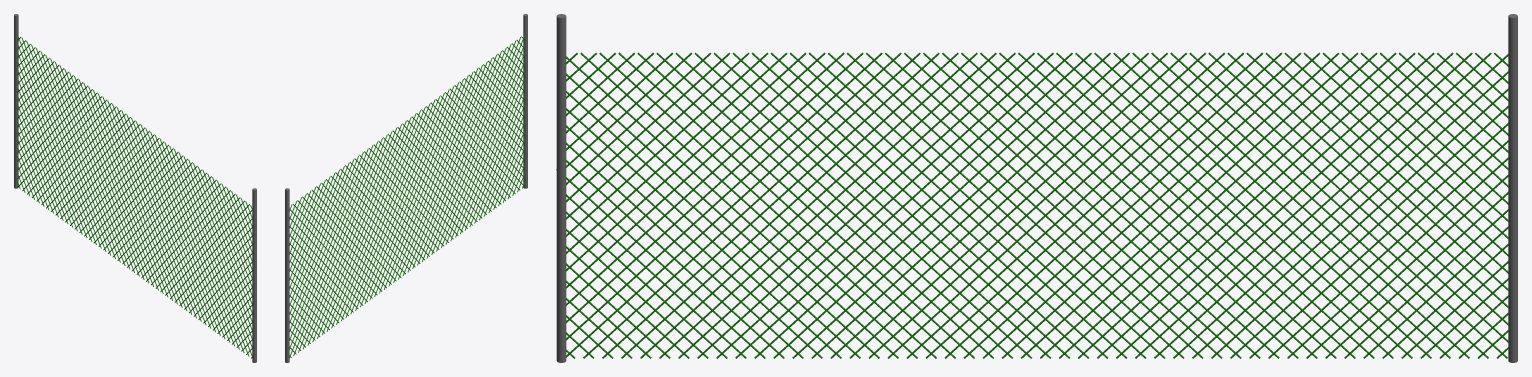
The model's file is Fence.fbx.
3 views of the same model, side by side, from view 1: azimuth 30°, elevation 25°; view 2: azimuth 150°, elevation 25°; view 3: azimuth 270°, elevation 25° (orthographic). The views are drawn at different scales.
Visible parts, largest first — view 1: Cylinder.002, Cylinder, Cylinder.001; view 2: Cylinder.002, Cylinder.001, Cylinder; view 3: Cylinder.002, Cylinder, Cylinder.001.
Boxes of the visible parts, x1,y1,x2,y2 form: Cylinder.002: (17,34,255,358); Cylinder: (252,188,256,362); Cylinder.001: (14,14,18,188); Cylinder.002: (289,36,524,357); Cylinder.001: (285,188,289,362); Cylinder: (523,14,527,188); Cylinder.002: (556,52,1508,358); Cylinder: (556,14,566,362); Cylinder.001: (1508,14,1517,362).
Bounding box in the file's own units: 5 × 200 × 505.
